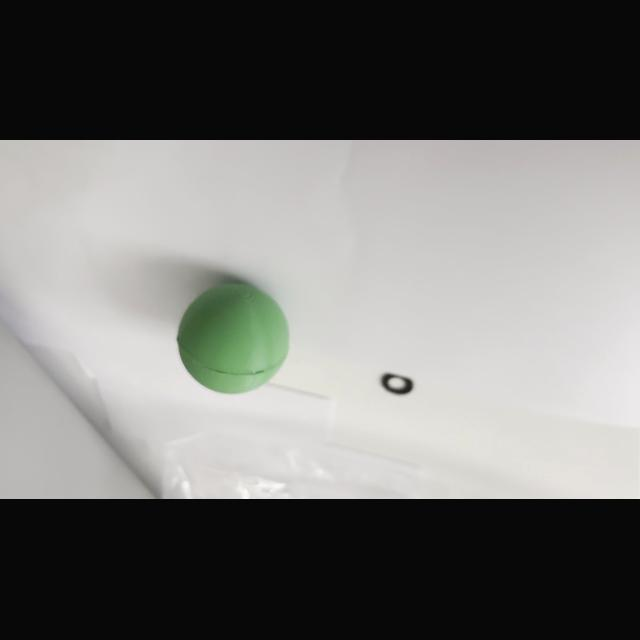objects: (172, 275, 296, 395)
